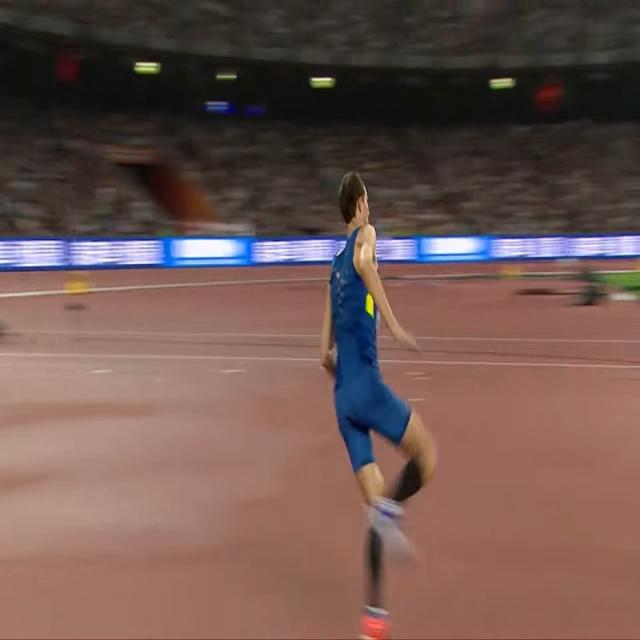run: (320, 166, 438, 640)
